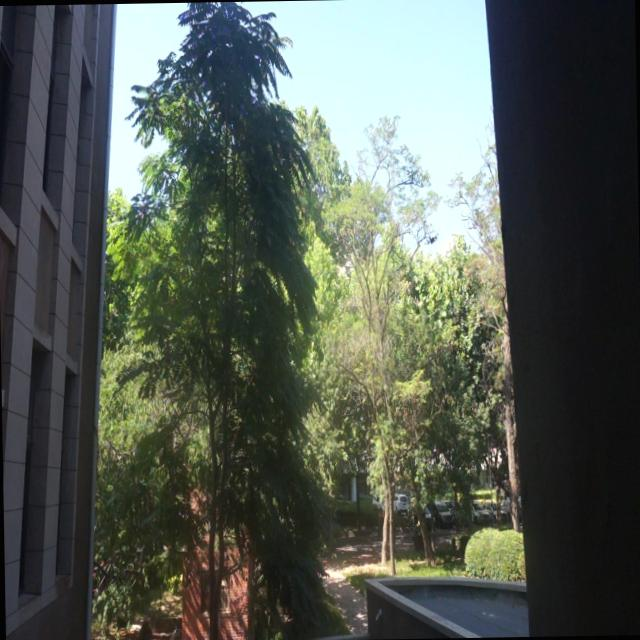drone: (424, 230, 438, 248)
